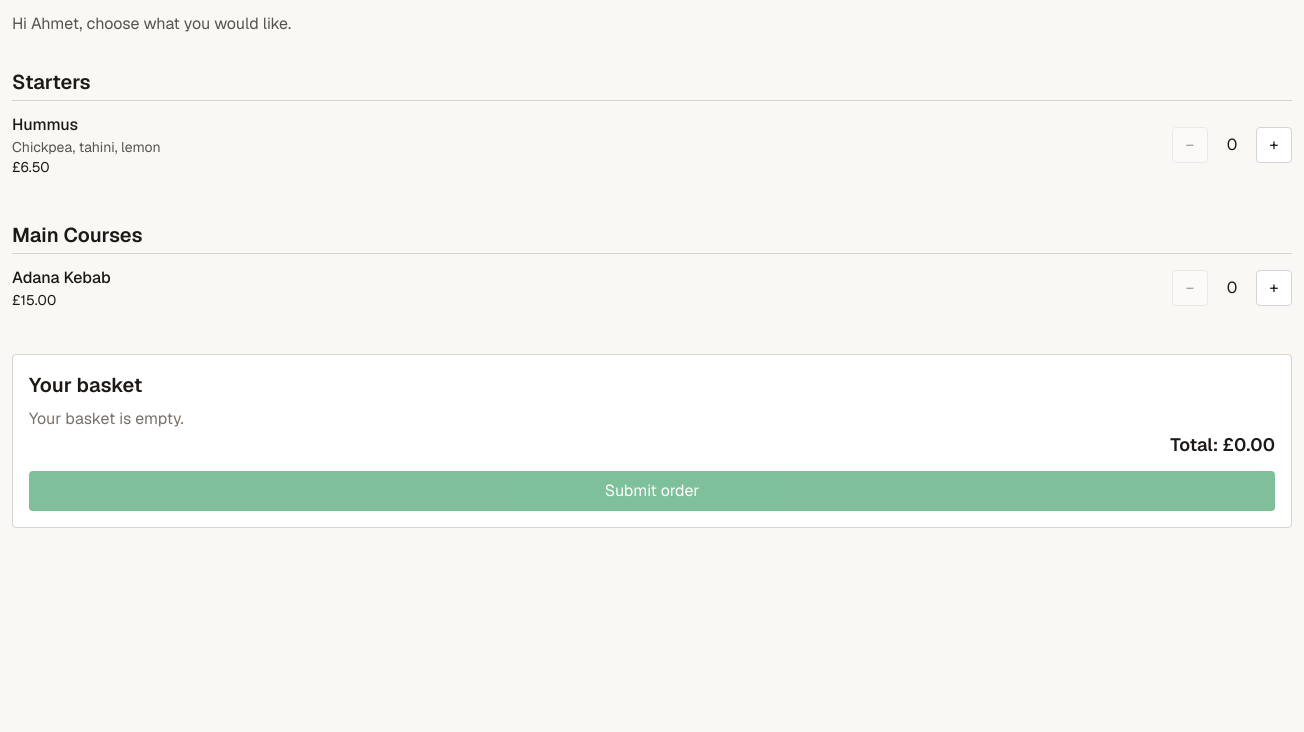
it: GuestOrder › submits the order and shows a confirmation
Expected: the text "Hummus" is shown, [12,114,78,135]
Click the button named "Add one Hummus" at (1274, 145), box [1256,127,1292,163]
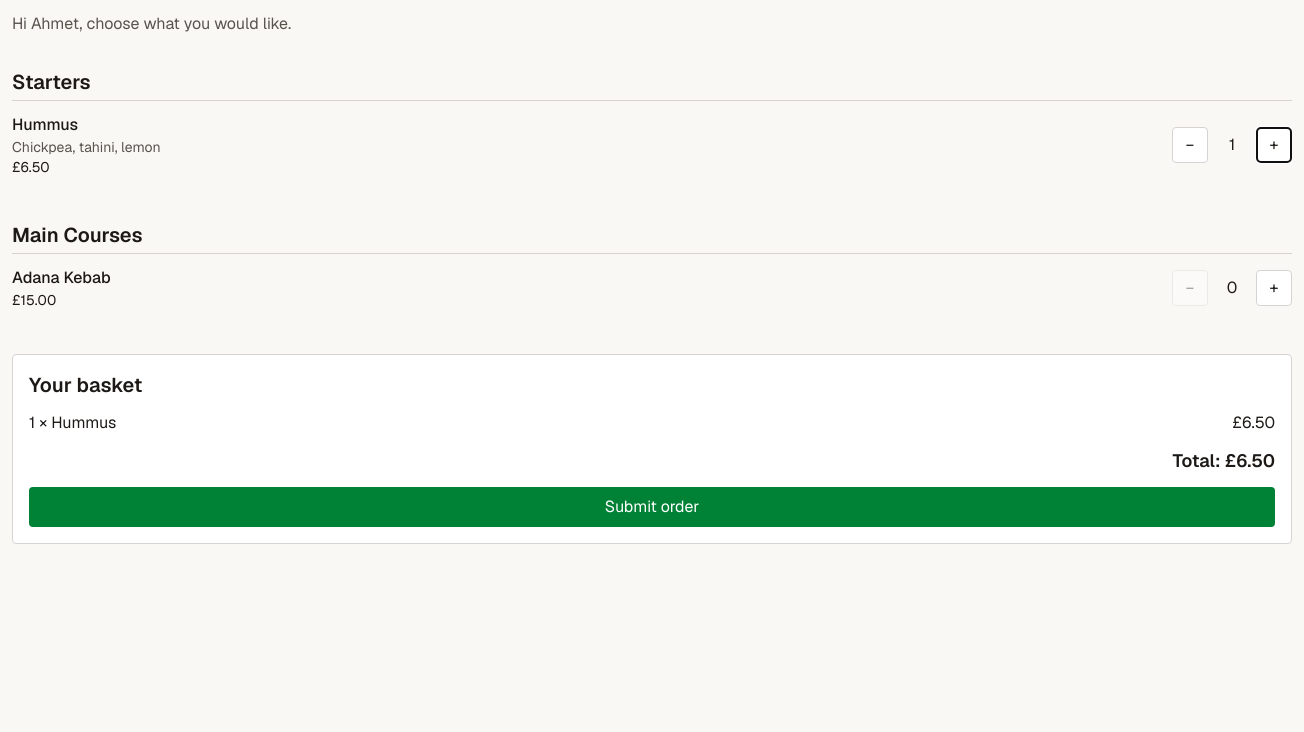
Click the button "Submit order" at (652, 507), box [29,487,1275,527]
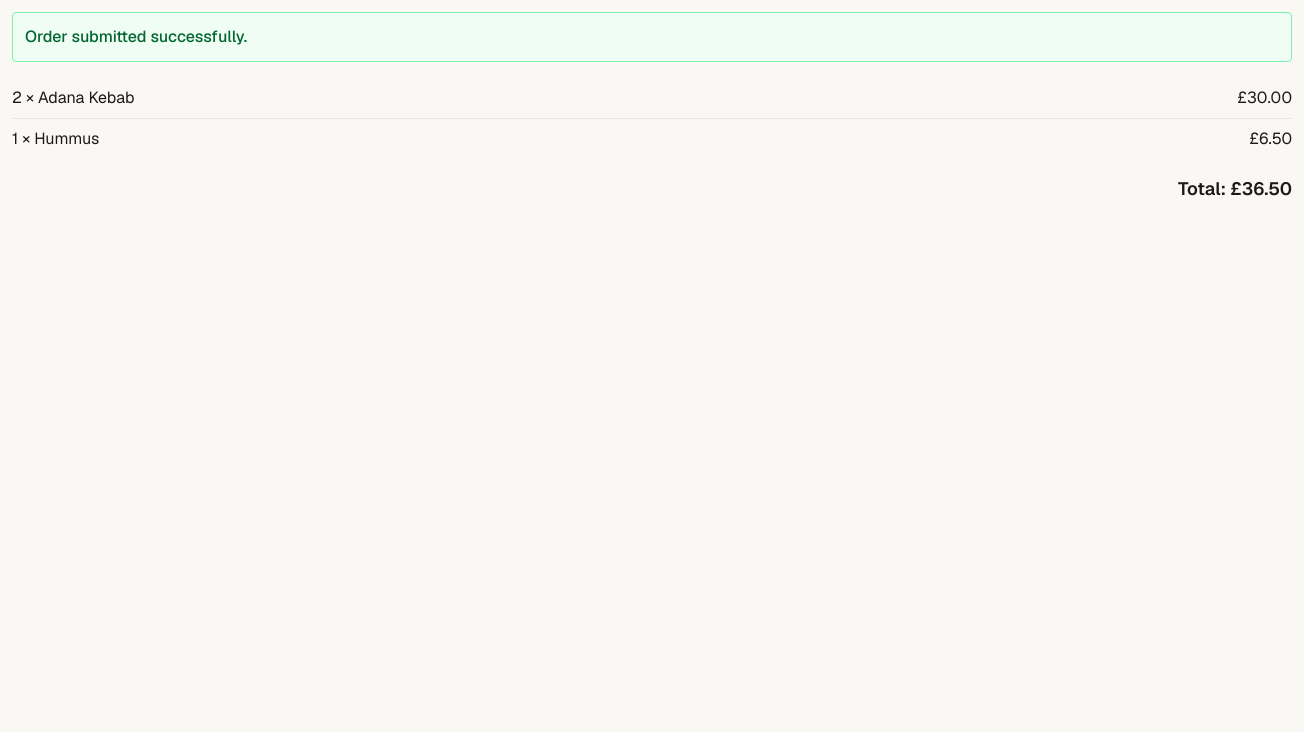
Expected: the text "Order submitted successfully." is shown, [12,12,1292,62]
